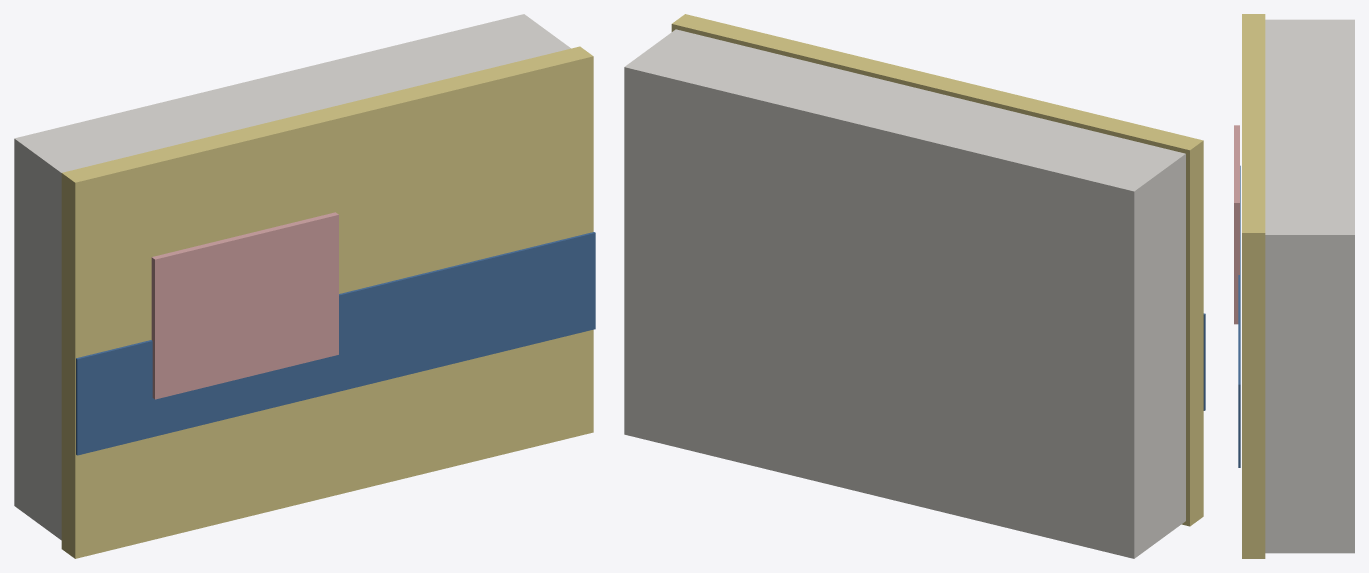
The model's file is PLAYFORM_KIT_PACKAGING_CONCEPT.glb.
3 renders of one model, left to right at view 1: azimuth 30°, elevation 25°; view 2: azimuth 150°, elevation 25°; view 3: azimuth 270°, elevation 25°, orthographic. The views are drawn at different scales.
Parts seen in each view (by area): view 1: lid, paperboard_box, printed_band, manual_shape; view 2: paperboard_box, lid; view 3: paperboard_box, lid, manual_shape, printed_band.
Boxes of the visible parts, box(x1,y1,x2,y2) form: lid: box(61, 46, 593, 558); paperboard_box: box(14, 14, 570, 540); printed_band: box(76, 232, 595, 455); manual_shape: box(151, 212, 338, 399); paperboard_box: box(624, 29, 1185, 558); lid: box(671, 14, 1203, 526); paperboard_box: box(1265, 19, 1354, 553); lid: box(1242, 14, 1265, 558); manual_shape: box(1234, 125, 1239, 324); printed_band: box(1238, 165, 1240, 467).
Bounding box in the file's own units: 3.1 × 2.15 × 0.7225.
